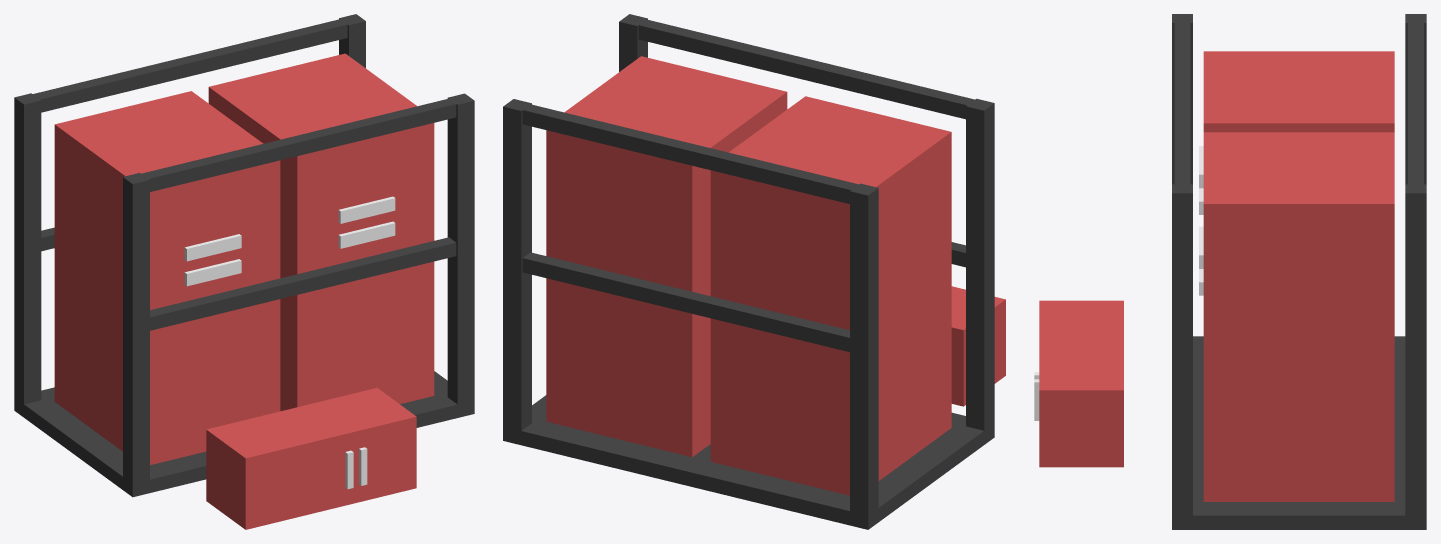
File: ce_ammo2_flame_napalm_c.obj
The picture shows the model from 3 angles, left to right: view 1: azimuth 30°, elevation 25°; view 2: azimuth 150°, elevation 25°; view 3: azimuth 270°, elevation 25°; orthographic projection. The views are drawn at different scales.
Parts seen in each view (by area): view 1: ce_ammo2_flame_napalm_c_9, ce_ammo2_flame_napalm_c_12, ce_ammo2_flame_napalm_c_15, ce_ammo2_flame_napalm_c_2, ce_ammo2_flame_napalm_c_1, ce_ammo2_flame_napalm_c_3, ce_ammo2_flame_napalm_c_0, ce_ammo2_flame_napalm_c_8, ce_ammo2_flame_napalm_c_7, ce_ammo2_flame_napalm_c_5, ce_ammo2_flame_napalm_c_4, ce_ammo2_flame_napalm_c_13 (+3 smaller); view 2: ce_ammo2_flame_napalm_c_9, ce_ammo2_flame_napalm_c_12, ce_ammo2_flame_napalm_c_0, ce_ammo2_flame_napalm_c_1, ce_ammo2_flame_napalm_c_2, ce_ammo2_flame_napalm_c_4, ce_ammo2_flame_napalm_c_7, ce_ammo2_flame_napalm_c_8, ce_ammo2_flame_napalm_c_6, ce_ammo2_flame_napalm_c_15, ce_ammo2_flame_napalm_c_3; view 3: ce_ammo2_flame_napalm_c_12, ce_ammo2_flame_napalm_c_9, ce_ammo2_flame_napalm_c_15, ce_ammo2_flame_napalm_c_0, ce_ammo2_flame_napalm_c_4, ce_ammo2_flame_napalm_c_3, ce_ammo2_flame_napalm_c_7, ce_ammo2_flame_napalm_c_8, ce_ammo2_flame_napalm_c_2, ce_ammo2_flame_napalm_c_1.
Boxes of the visible parts, <box> form: ce_ammo2_flame_napalm_c_9: <box>54,91,280,464</box>; ce_ammo2_flame_napalm_c_12: <box>208,53,434,411</box>; ce_ammo2_flame_napalm_c_15: <box>206,388,416,529</box>; ce_ammo2_flame_napalm_c_2: <box>14,93,41,404</box>; ce_ammo2_flame_napalm_c_1: <box>123,173,149,483</box>; ce_ammo2_flame_napalm_c_3: <box>447,93,474,404</box>; ce_ammo2_flame_napalm_c_0: <box>14,371,474,497</box>; ce_ammo2_flame_napalm_c_8: <box>33,19,347,112</box>; ce_ammo2_flame_napalm_c_7: <box>141,98,456,191</box>; ce_ammo2_flame_napalm_c_5: <box>150,237,456,330</box>; ce_ammo2_flame_napalm_c_4: <box>339,14,365,67</box>; ce_ammo2_flame_napalm_c_13: <box>338,221,395,248</box>; ce_ammo2_flame_napalm_c_9: <box>710,96,951,495</box>; ce_ammo2_flame_napalm_c_12: <box>546,56,787,457</box>; ce_ammo2_flame_napalm_c_0: <box>503,395,994,529</box>; ce_ammo2_flame_napalm_c_1: <box>966,98,994,430</box>; ce_ammo2_flame_napalm_c_2: <box>850,183,878,515</box>; ce_ammo2_flame_napalm_c_4: <box>503,99,531,430</box>; ce_ammo2_flame_napalm_c_7: <box>638,19,974,119</box>; ce_ammo2_flame_napalm_c_8: <box>522,104,858,203</box>; ce_ammo2_flame_napalm_c_6: <box>522,252,849,352</box>; ce_ammo2_flame_napalm_c_15: <box>951,286,1005,406</box>; ce_ammo2_flame_napalm_c_3: <box>619,14,647,71</box>; ce_ammo2_flame_napalm_c_12: <box>1203,132,1394,501</box>; ce_ammo2_flame_napalm_c_9: <box>1203,51,1394,132</box>; ce_ammo2_flame_napalm_c_15: <box>1039,300,1123,467</box>; ce_ammo2_flame_napalm_c_0: <box>1172,336,1426,529</box>; ce_ammo2_flame_napalm_c_4: <box>1405,184,1426,515</box>; ce_ammo2_flame_napalm_c_3: <box>1172,184,1192,515</box>; ce_ammo2_flame_napalm_c_7: <box>1174,23,1190,184</box>; ce_ammo2_flame_napalm_c_8: <box>1408,23,1423,184</box>; ce_ammo2_flame_napalm_c_2: <box>1405,14,1426,184</box>; ce_ammo2_flame_napalm_c_1: <box>1172,14,1192,184</box>.
Bounding box in the file's own units: 0.8 × 0.7 × 0.739.
